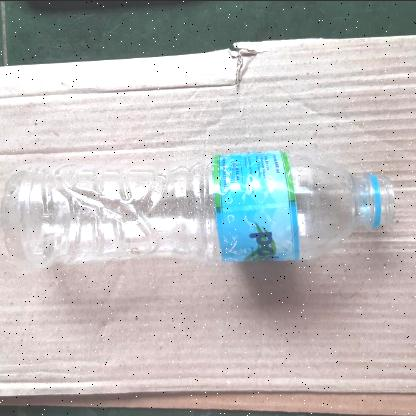Plastic Bottle: (0, 149, 395, 261)
